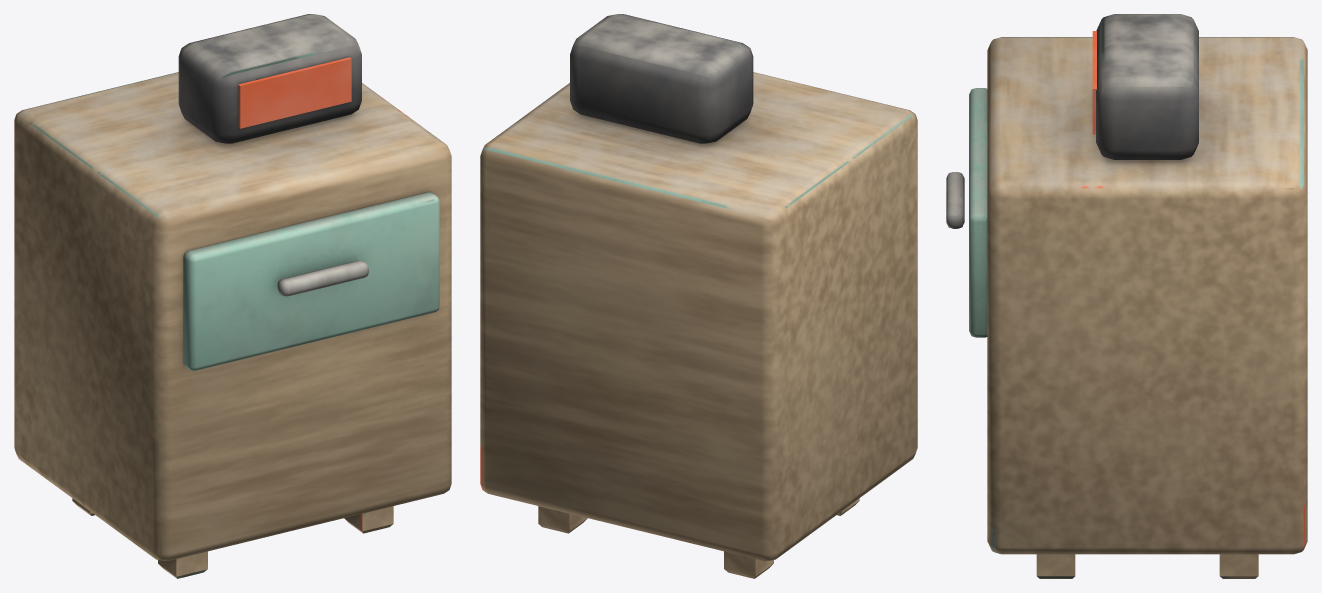
The model's file is nightstand.fbx.
3 renders of one model, left to right at view 1: azimuth 30°, elevation 25°; view 2: azimuth 150°, elevation 25°; view 3: azimuth 270°, elevation 25°, orthographic. The views are drawn at different scales.
Parts seen in each view (by area): view 1: Body, Drawer1, Glow; view 2: Body; view 3: Body, Drawer1, Glow.
Boxes of the visible parts, left/top/right/bottom form: Body: left=14, top=14, right=451, bottom=578; Drawer1: left=183, top=192, right=439, bottom=370; Glow: left=238, top=57, right=351, bottom=128; Body: left=480, top=14, right=917, bottom=578; Body: left=987, top=14, right=1307, bottom=578; Drawer1: left=946, top=88, right=987, bottom=337; Glow: left=1092, top=31, right=1096, bottom=134.
Size of the model in its own units: 1.6 by 2.4 by 1.58.
Materials: 1 (1 with a texture image).
